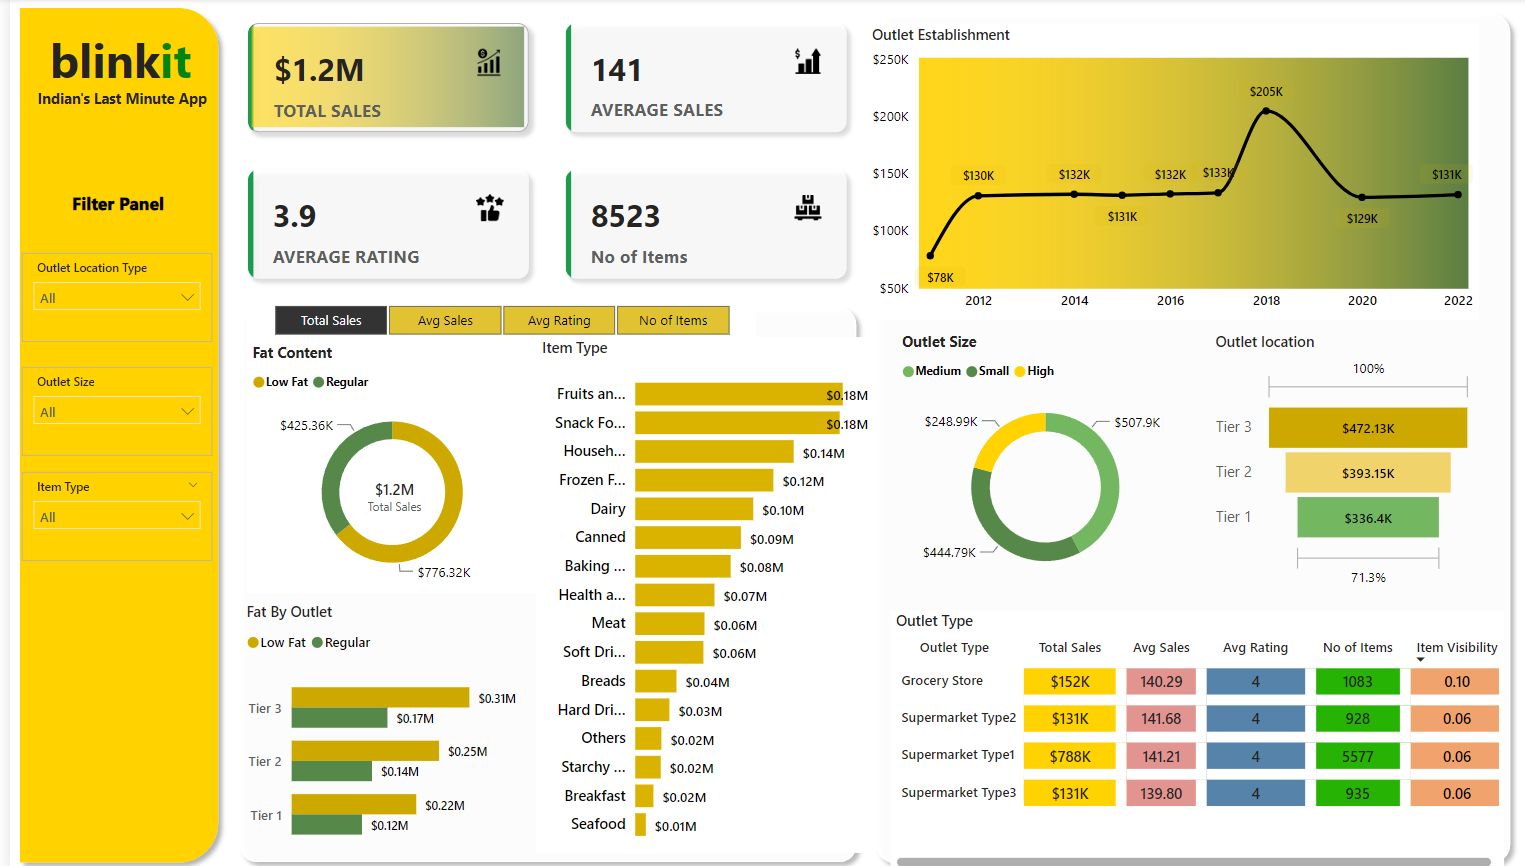

What the dashboard file says about the page in this screenshot:
{"tool":"powerbi","page":{"name":"Page 1","canvas":[1400,800],"ordinal":0},"visuals":[{"type":"shape","box":[0,0,199.6,800],"z":0},{"type":"textbox","box":[3,76.5,199.6,64.5],"z":1000},{"type":"textbox","box":[1.5,22.5,199.6,85.6],"z":2000},{"type":"cardVisual","fields":{"Data":["BlinkIT Grocery Data.Total Sales","BlinkIT Grocery Data.Avg Sales","BlinkIT Grocery Data.Avg Rating","BlinkIT Grocery Data.No of Items"]},"box":[200.4,5,583,270],"z":3000},{"type":"shape","box":[202.1,274.9,581.3,525],"z":4000},{"type":"donutChart","title":"Fat Content","fields":{"Y":["BlinkIT Grocery Data.Total Sales"],"Category":["BlinkIT Grocery Data.Item Fat Content"]},"box":[217,314.7,265,230.2],"z":5000},{"type":"slicer","fields":{"Values":["matrix 2.matrix"]},"box":[217,274.9,465,40],"z":6000},{"type":"cardVisual","fields":{"Data":["BlinkIT Grocery Data.Total Sales"]},"box":[304.7,419,94.4,66.2],"z":7000},{"type":"clusteredBarChart","title":"Fat By Outlet","fields":{"Y":["BlinkIT Grocery Data.Total Sales"],"Category":["BlinkIT Grocery Data.Outlet Location Type"],"Series":["BlinkIT Grocery Data.Item Fat Content"]},"box":[211.8,551.8,257.3,240],"z":8000},{"type":"shape","box":[200.4,515.1,281.5,59.6],"z":9000},{"type":"shape","box":[210.4,525.1,281.5,59.6],"z":10000},{"type":"shape","box":[202.1,536.6,279.9,18.2],"z":11000},{"type":"shape","box":[212.1,546.6,279.9,18.2],"z":12000},{"type":"shape","box":[485.3,314.7,6.6,472],"z":13000},{"type":"barChart","title":"Item Type","fields":{"Y":["BlinkIT Grocery Data.Total Sales"],"Category":["BlinkIT Grocery Data.Item Type"]},"box":[481.8,310,308.2,471.8],"z":14000},{"type":"shape","box":[783.4,5,597.9,795],"z":15000},{"type":"lineChart","title":"Outlet Establishment","fields":{"Y":["BlinkIT Grocery Data.Total Sales"],"Category":["BlinkIT Grocery Data.Outlet Establishment Year"]},"box":[783.4,23.2,559.8,271.6],"z":16000},{"type":"donutChart","title":"Outlet Size","fields":{"Y":["BlinkIT Grocery Data.Total Sales"],"Category":["BlinkIT Grocery Data.Outlet Size"]},"box":[811.5,304.7,271.6,240.1],"z":17000},{"type":"funnel","title":"Outlet location","fields":{"Y":["BlinkIT Grocery Data.Total Sales"],"Category":["BlinkIT Grocery Data.Outlet Location Type"]},"box":[1098,304.7,245.1,240.1],"z":18000},{"type":"pivotTable","title":"Outlet Type","fields":{"Values":["BlinkIT Grocery Data.Total Sales","BlinkIT Grocery Data.Avg Sales","BlinkIT Grocery Data.Avg Rating","BlinkIT Grocery Data.No of Items","Avg(BlinkIT Grocery Data.Item Visibility)"],"Rows":["BlinkIT Grocery Data.Outlet Type"]},"box":[804.9,559.8,561.4,240.1],"z":19000},{"type":"slicer","fields":{"Values":["BlinkIT Grocery Data.Outlet Location Type"]},"box":[11.6,233.5,173.9,81.2],"z":20000},{"type":"slicer","fields":{"Values":["BlinkIT Grocery Data.Outlet Size"]},"box":[11.6,337.9,173.9,81.2],"z":21000},{"type":"slicer","fields":{"Values":["BlinkIT Grocery Data.Item Type"]},"box":[11.6,433.9,173.9,81.2],"z":22000},{"type":"textbox","box":[12.9,171.4,172.9,38.6],"z":23000}]}

Visuals, with their boxes in screenshot pixels (x1, y1, x2, y2), scaled from the page's 1400x800 canvas onto the 1525x866 screenshot:
shape: left=0, top=0, right=217, bottom=865
textbox: left=3, top=83, right=221, bottom=153
textbox: left=2, top=24, right=219, bottom=117
cardVisual - BlinkIT Grocery Data.Total Sales x BlinkIT Grocery Data.Avg Sales: left=218, top=5, right=853, bottom=298
shape: left=220, top=298, right=853, bottom=865
"Fat Content" donutChart: left=236, top=341, right=525, bottom=590
slicer - matrix 2.matrix: left=236, top=298, right=743, bottom=341
cardVisual - BlinkIT Grocery Data.Total Sales: left=332, top=454, right=435, bottom=525
"Fat By Outlet" clusteredBarChart: left=231, top=597, right=511, bottom=857
shape: left=218, top=558, right=525, bottom=622
shape: left=229, top=568, right=536, bottom=633
shape: left=220, top=581, right=525, bottom=601
shape: left=231, top=592, right=536, bottom=611
shape: left=529, top=341, right=536, bottom=852
"Item Type" barChart: left=525, top=336, right=861, bottom=846
shape: left=853, top=5, right=1505, bottom=865
"Outlet Establishment" lineChart: left=853, top=25, right=1463, bottom=319
"Outlet Size" donutChart: left=884, top=330, right=1180, bottom=590
"Outlet location" funnel: left=1196, top=330, right=1463, bottom=590
"Outlet Type" pivotTable: left=877, top=606, right=1488, bottom=865
slicer - BlinkIT Grocery Data.Outlet Location Type: left=13, top=253, right=202, bottom=341
slicer - BlinkIT Grocery Data.Outlet Size: left=13, top=366, right=202, bottom=454
slicer - BlinkIT Grocery Data.Item Type: left=13, top=470, right=202, bottom=558
textbox: left=14, top=186, right=202, bottom=227
